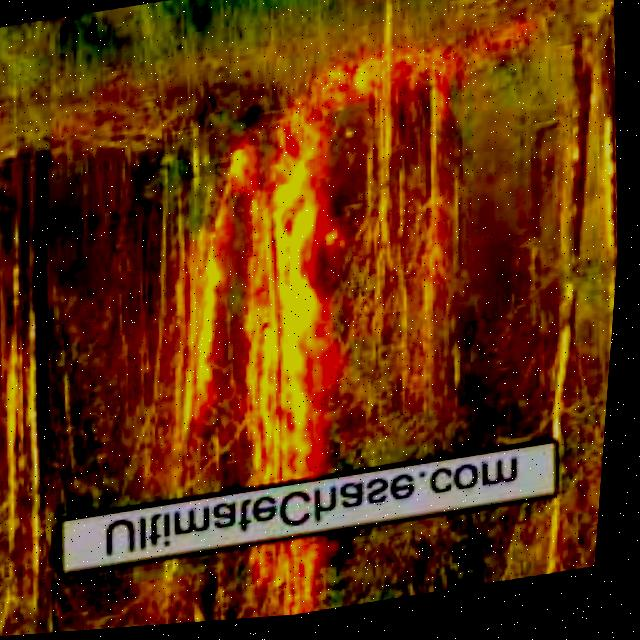Fire: (226, 126, 356, 487), (163, 208, 249, 425), (287, 60, 411, 105), (274, 545, 328, 622)
